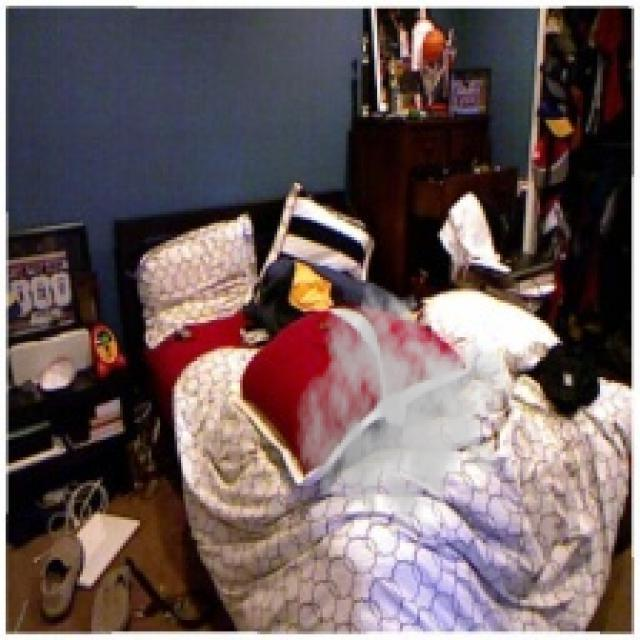Smoke: (294, 283, 509, 552)
